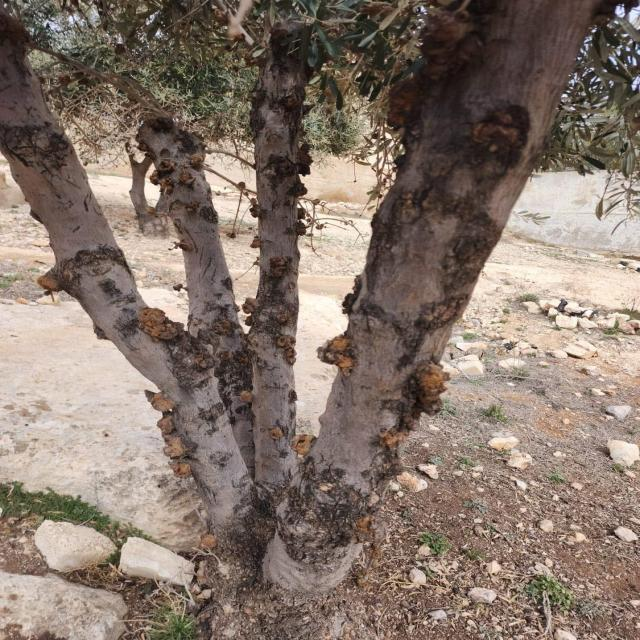Tuberculosis: (386, 0, 484, 135), (380, 360, 449, 449), (144, 390, 192, 478), (317, 334, 355, 376), (138, 307, 183, 341), (355, 516, 389, 560), (150, 158, 174, 195), (38, 268, 66, 294), (144, 116, 182, 134), (266, 256, 293, 280), (276, 334, 296, 366), (292, 434, 314, 457), (210, 319, 234, 338), (286, 178, 307, 198), (198, 533, 218, 550), (180, 168, 194, 188), (242, 298, 258, 314), (269, 427, 284, 442), (190, 156, 204, 172), (275, 312, 290, 326), (240, 391, 253, 404), (252, 235, 260, 248)
